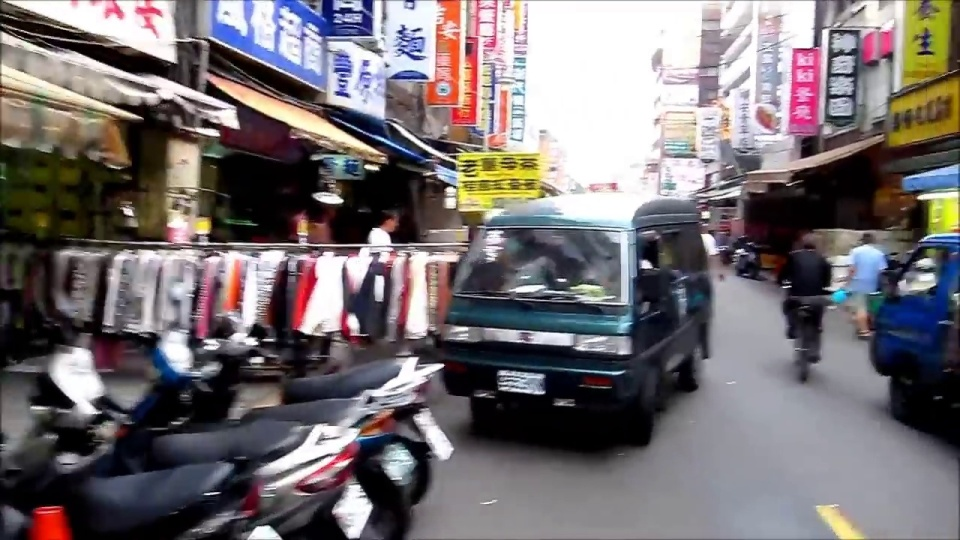person_head: (378, 212, 401, 232), (799, 232, 818, 249), (861, 232, 876, 245)
person_vbox: (774, 227, 834, 365), (845, 228, 888, 341), (363, 207, 404, 249)
